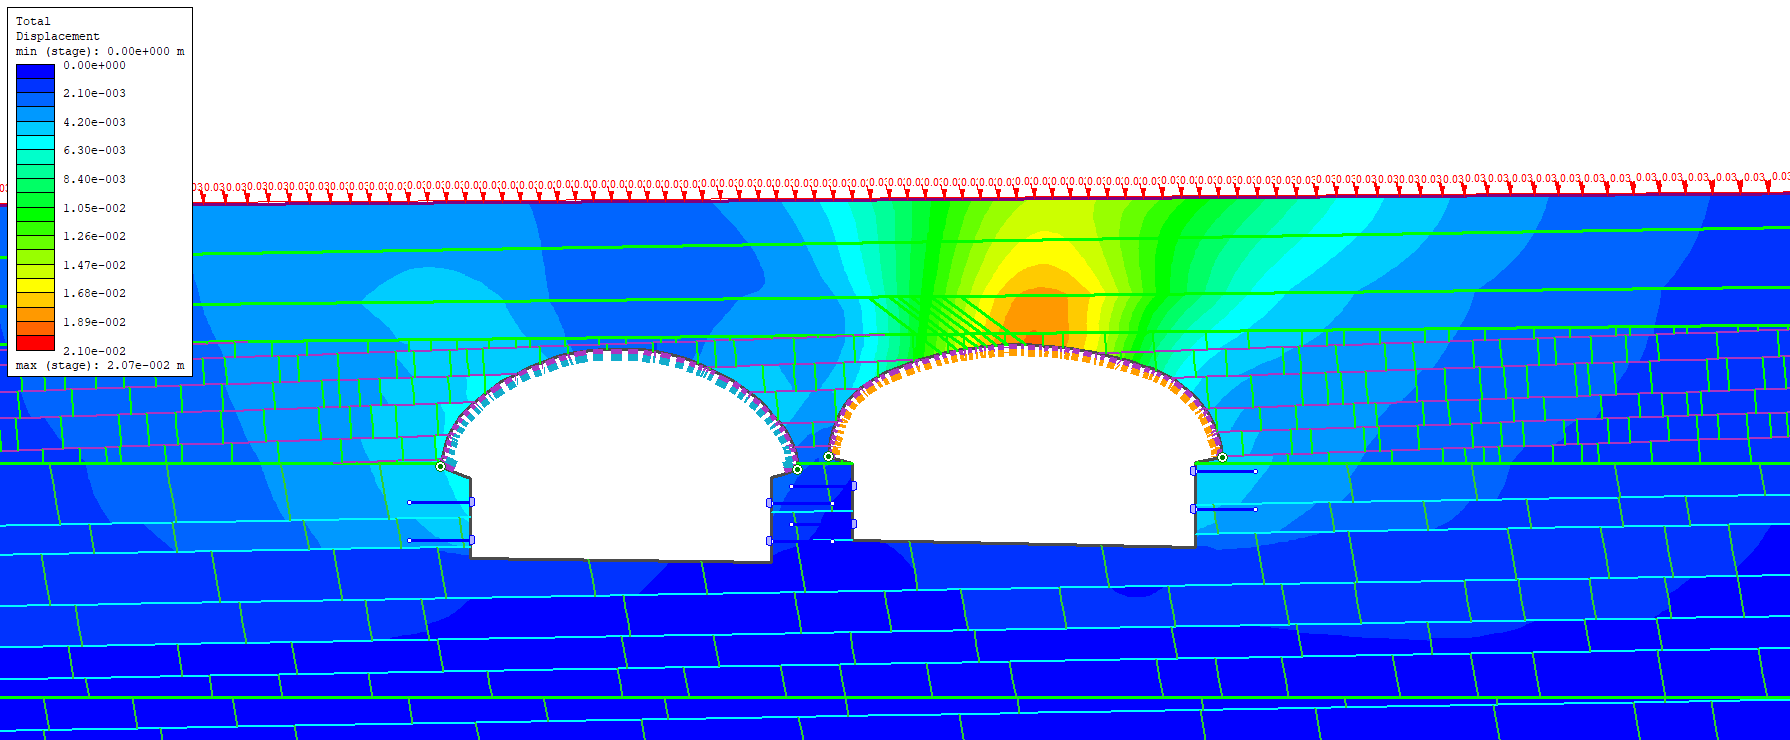crown: (570, 324, 667, 345), (981, 322, 1074, 343)
label: (8, 8, 191, 373)
tunnel-opening: (829, 343, 1224, 547), (444, 351, 798, 562)
